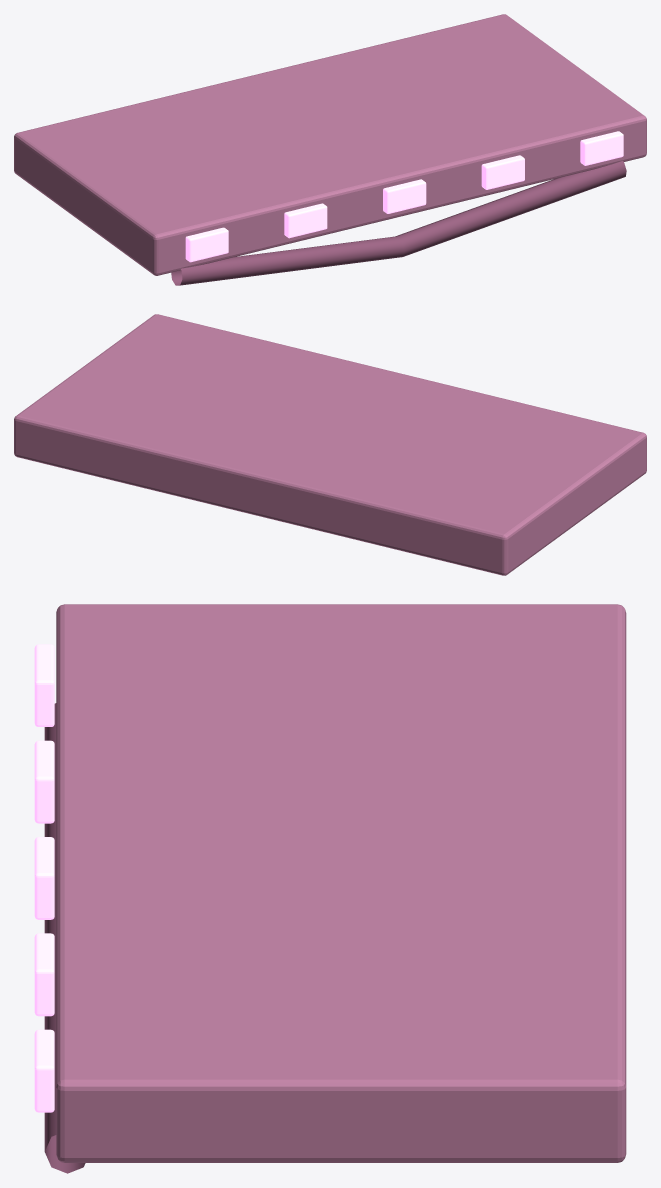
Rendered from SM_DeckBio.fbx.
3 renders of one model, top to bottom at view 1: azimuth 30°, elevation 25°; view 2: azimuth 150°, elevation 25°; view 3: azimuth 270°, elevation 25°, orthographic. The views are drawn at different scales.
Visible parts, largest first — view 1: SM_DeckBio; view 2: SM_DeckBio; view 3: SM_DeckBio.
Part boxes in pixels (x1=…): SM_DeckBio: x1=14, y1=14, x2=646, y2=285; SM_DeckBio: x1=14, y1=314, x2=646, y2=575; SM_DeckBio: x1=34, y1=604, x2=626, y2=1173.
Bounding box in the file's own units: 200 × 104 × 32.
